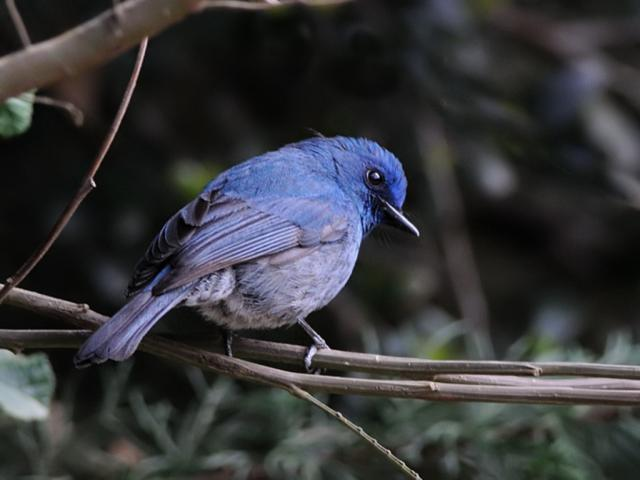Bird: (71, 129, 426, 376)
